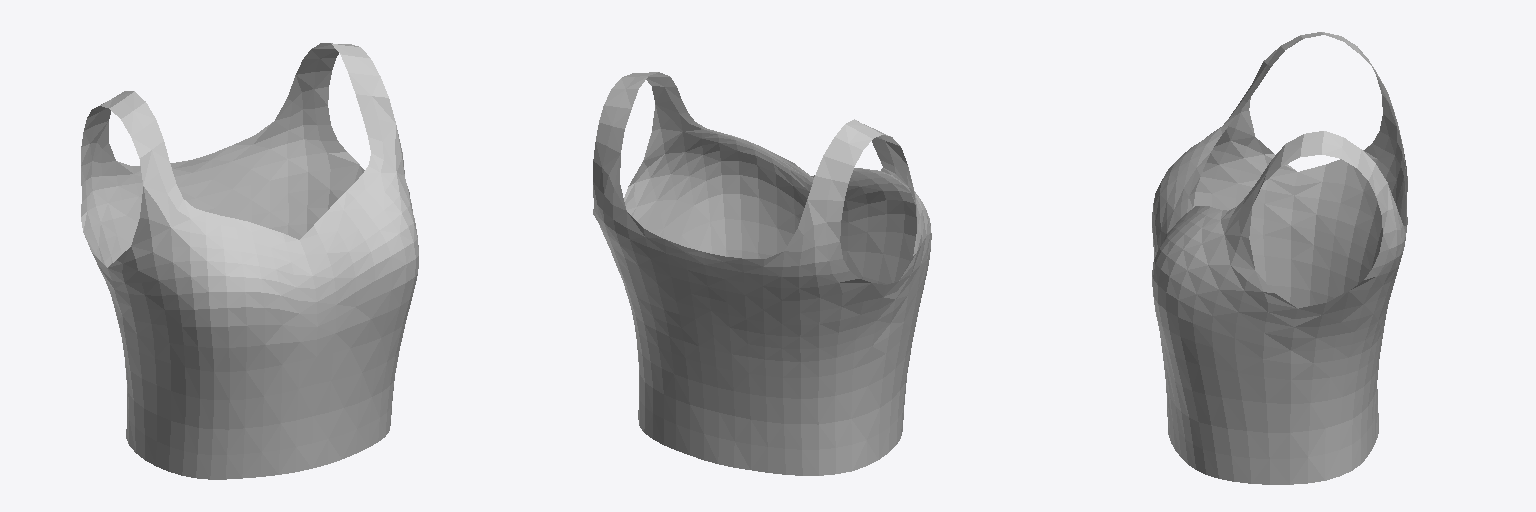
Rendered from 12_bodicesweetheart.obj.
The picture shows the model from 3 angles: view 1: azimuth 30°, elevation 25°; view 2: azimuth 150°, elevation 25°; view 3: azimuth 270°, elevation 25°; orthographic projection.
Parts seen in each view (by area): view 1: bodicefrontleft, bodicefrontright, bodicebackright, bodiceback, bodicebackleft, object_7; view 2: bodiceback, bodicebackleft, bodicefrontleft, object_7, bodicebackright, bodicefrontright; view 3: object_7, bodicebackright, bodicebackleft, bodicefrontleft, bodicefrontright, bodiceback.
Part boxes in pixels (bbox=[...]): bodicefrontleft: bbox=[107, 91, 317, 479]; bodicefrontright: bbox=[300, 174, 415, 468]; bodicebackright: bbox=[270, 43, 364, 239]; bodiceback: bbox=[116, 122, 273, 238]; bodicebackleft: bbox=[81, 91, 135, 452]; object_7: bbox=[332, 44, 418, 436]; bodiceback: bbox=[627, 212, 785, 474]; bodicebackleft: bbox=[781, 124, 898, 475]; bodicefrontleft: bbox=[811, 119, 931, 459]; object_7: bbox=[622, 72, 725, 256]; bodicebackright: bbox=[593, 76, 663, 444]; bodicefrontright: bbox=[718, 132, 813, 258]; object_7: bbox=[1166, 131, 1323, 484]; bodicebackright: bbox=[1290, 131, 1404, 484]; bodicebackleft: bbox=[1290, 32, 1404, 308]; bodicefrontleft: bbox=[1152, 32, 1323, 302]; bodicefrontright: bbox=[1152, 206, 1221, 469]; bodiceback: bbox=[1367, 154, 1407, 456].
Bounding box in the file's own units: 13.51 × 15.64 × 10.52.